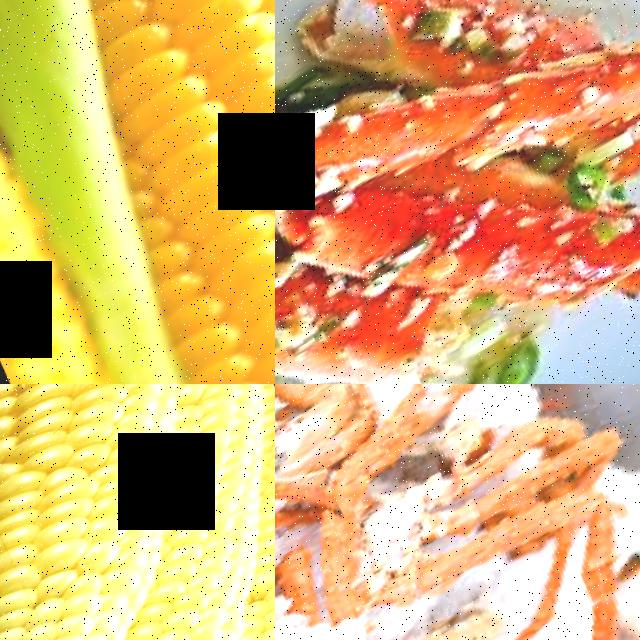corn: (0, 0, 275, 384), (0, 384, 275, 640), (1, 521, 275, 640)
crab: (275, 0, 640, 384), (350, 384, 640, 637), (275, 396, 471, 570)
